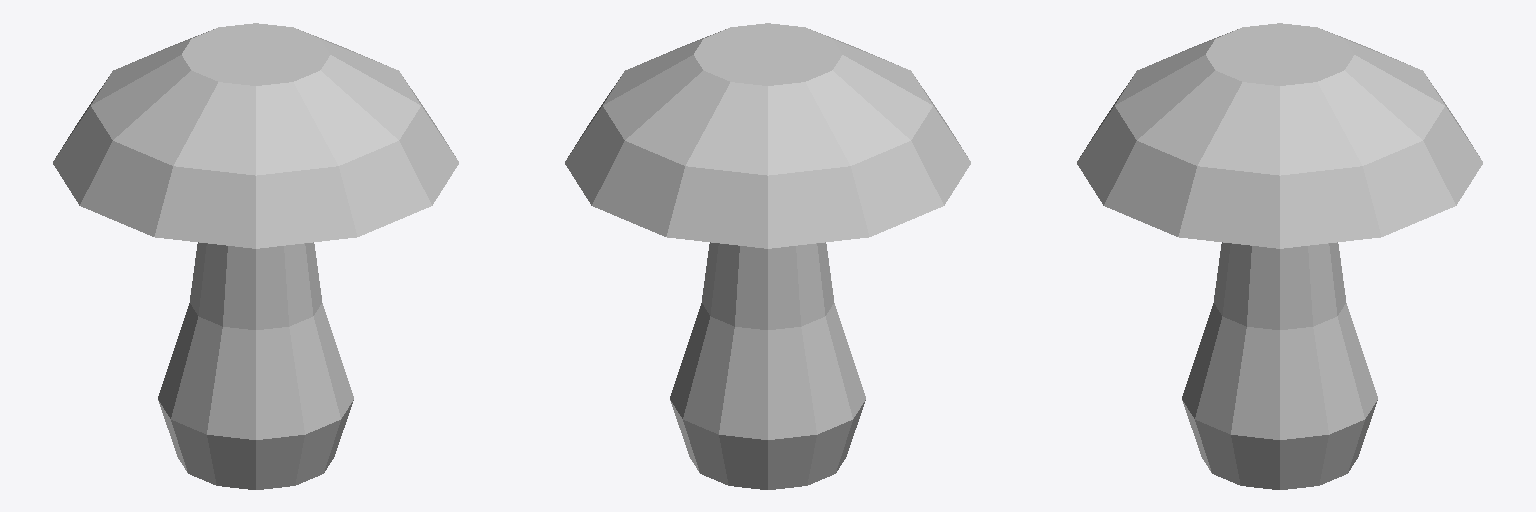
The model's file is Mushroom_002.obj.
The picture shows the model from 3 angles: view 1: azimuth 30°, elevation 25°; view 2: azimuth 150°, elevation 25°; view 3: azimuth 270°, elevation 25°; orthographic projection.
Parts seen in each view (by area): view 1: Mushroom_002 Mushrooms; view 2: Mushroom_002 Mushrooms; view 3: Mushroom_002 Mushrooms.
Boxes of the visible parts, box(x1,y1,x2,y2) form: Mushroom_002 Mushrooms: box(53, 23, 458, 489); Mushroom_002 Mushrooms: box(565, 23, 970, 489); Mushroom_002 Mushrooms: box(1077, 23, 1482, 489).
Bounding box in the file's own units: 11.77 × 12.84 × 11.77.